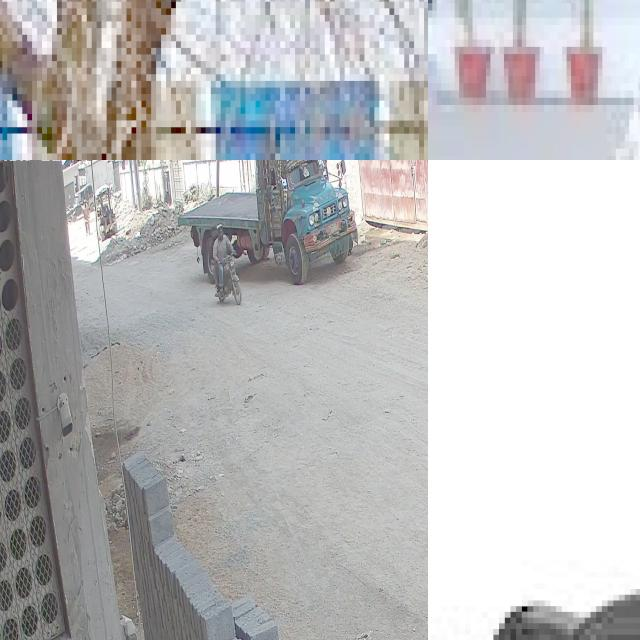bike: (428, 332, 640, 640), (57, 28, 428, 160), (481, 0, 640, 160), (213, 262, 242, 306)
